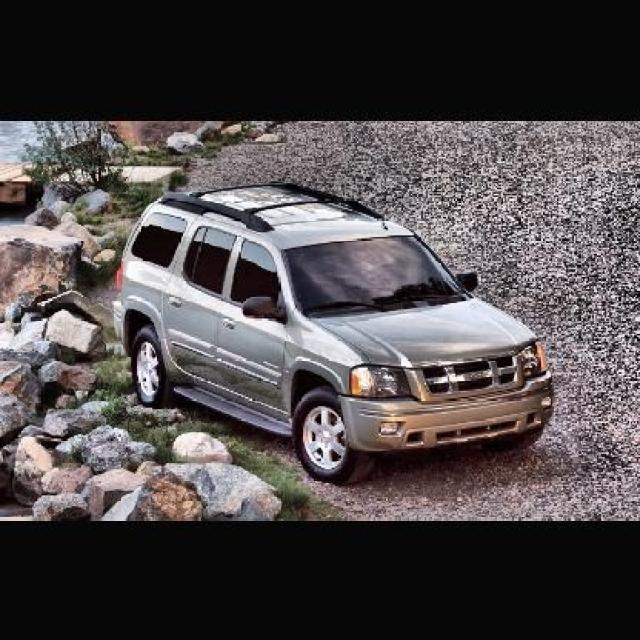silver: (118, 184, 550, 476)
